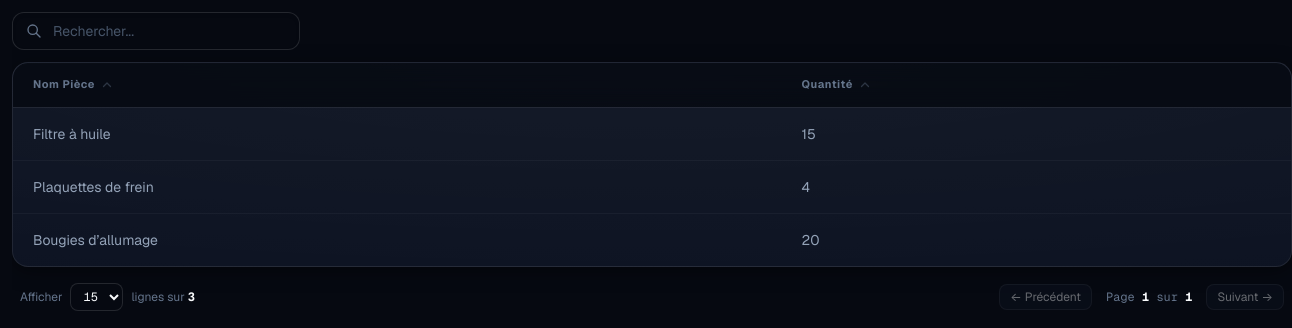
Test: DataTable UI Component › filters data when typing in search input
Type "frein" into the search field with placeholder "Rechercher..." at [156, 31], box [12, 12, 300, 50]
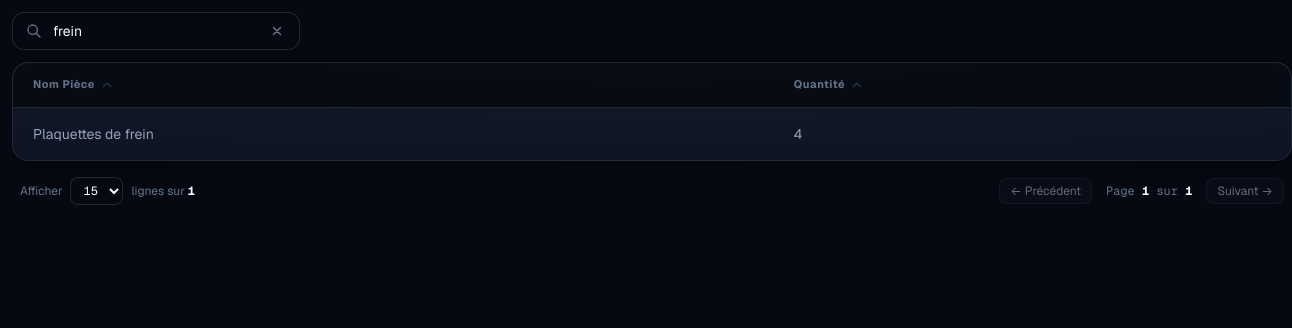
Expected: the text "Plaquettes de frein" is shown, [13, 107, 774, 160]
Expected: the text "Filtre à huile" is gone
